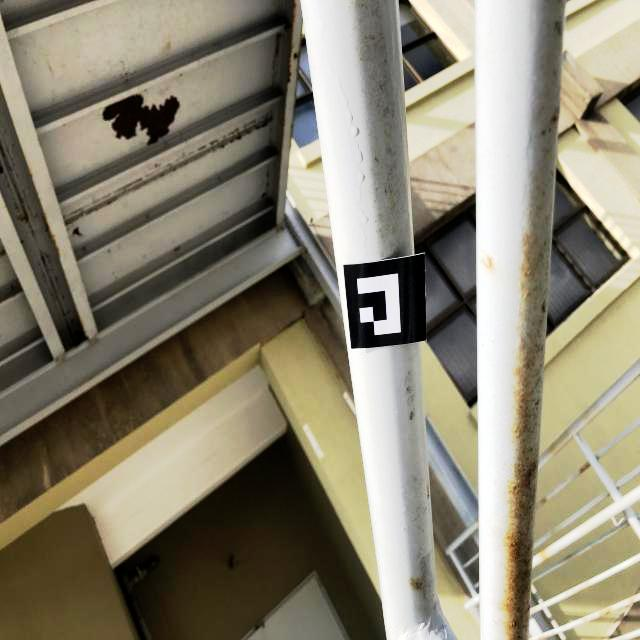Corrosion: (498, 231, 545, 640), (103, 94, 180, 145), (597, 606, 614, 618), (481, 255, 493, 271), (410, 578, 422, 593), (578, 462, 591, 475), (537, 549, 546, 560)
